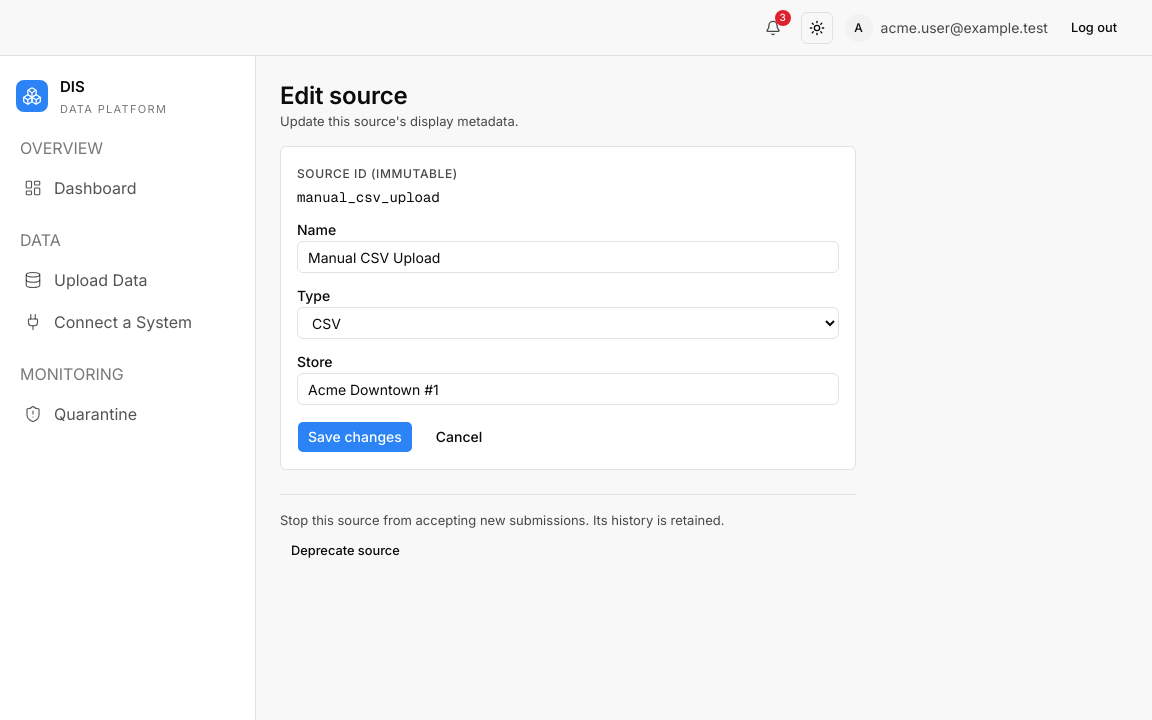
it: SourceEdit › deprecates the source via the confirm dialog (soft transition), then lands on the list
The width and height of the screenshot is (1152, 720).
Expected: the heading "Edit source" is shown, [280,81,407,110]
Click the button "Deprecate source" at {"x": 345, "y": 551}, box [280,537,411,565]
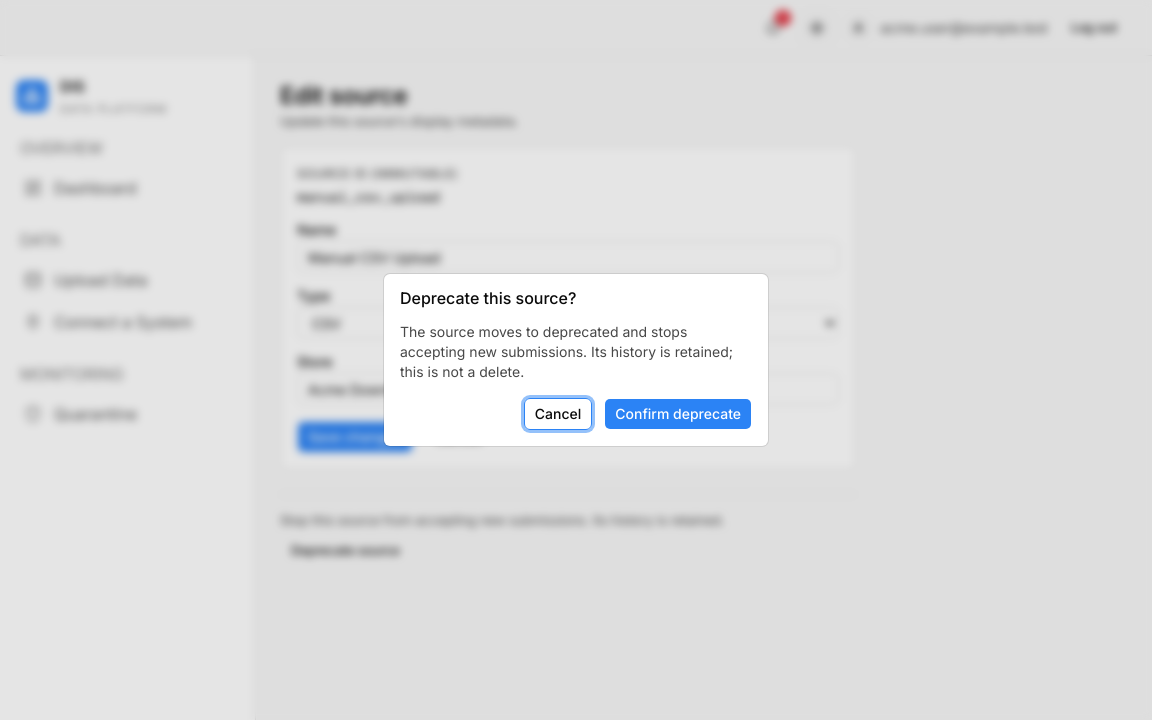
Click the button "Confirm deprecate" at {"x": 678, "y": 414}, box [604,398,752,430]
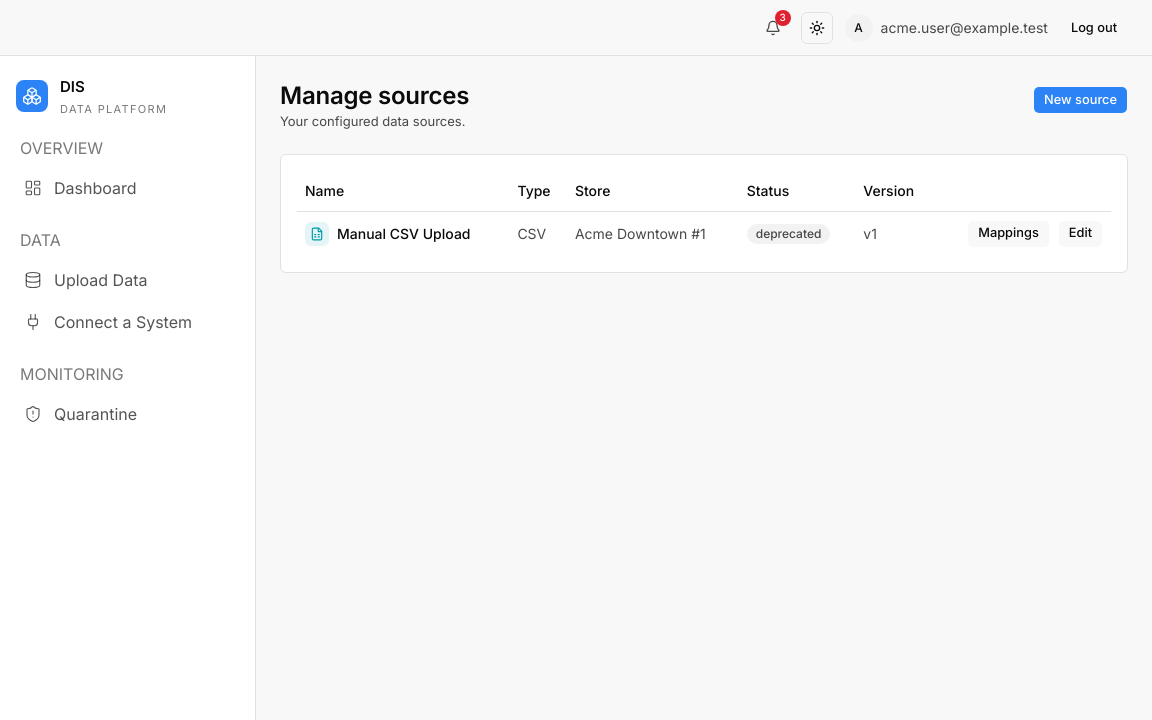
Result: the text "deprecated" is shown at [747,224,830,244]
Result: the heading "Manage sources" is shown at [280,80,469,112]
